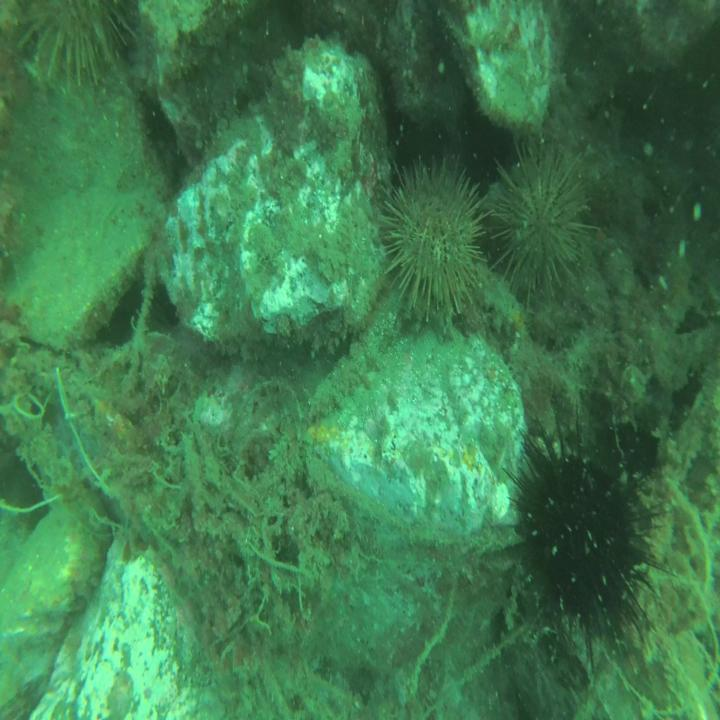echinus: (496, 408, 670, 680), (486, 130, 592, 326), (381, 148, 487, 324), (8, 0, 144, 94)
